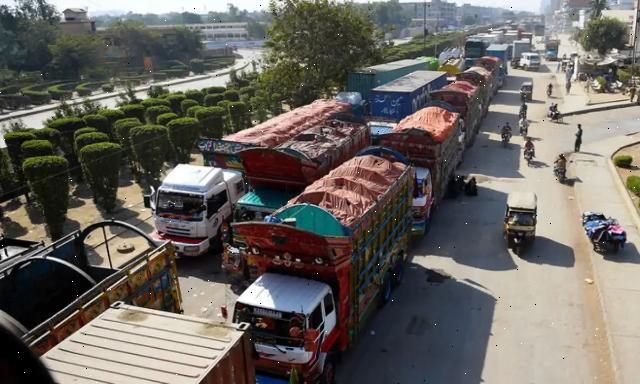Bike: (523, 146, 537, 165), (499, 131, 511, 148), (555, 167, 567, 183)
Person: (524, 136, 536, 149), (556, 155, 567, 168), (500, 121, 512, 132)
Rickshaw: (501, 190, 539, 255)
Truck: (234, 164, 422, 384), (148, 89, 338, 271), (217, 133, 334, 270), (397, 113, 462, 236), (510, 39, 545, 76)
